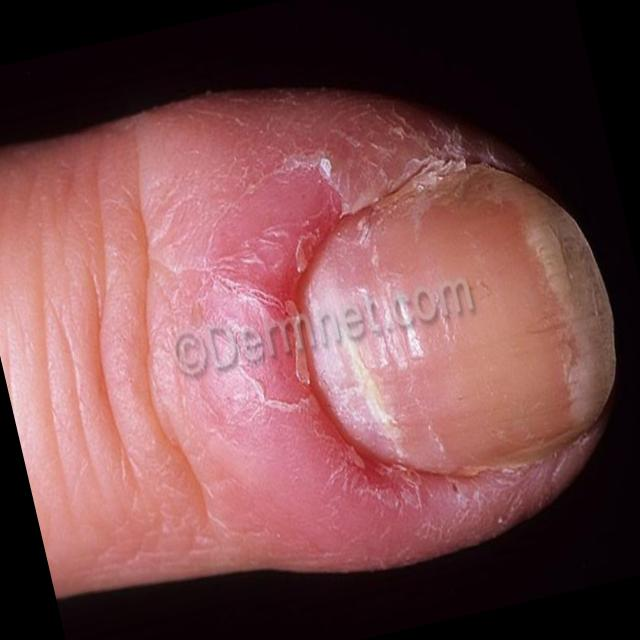Nail: (296, 161, 617, 467)
